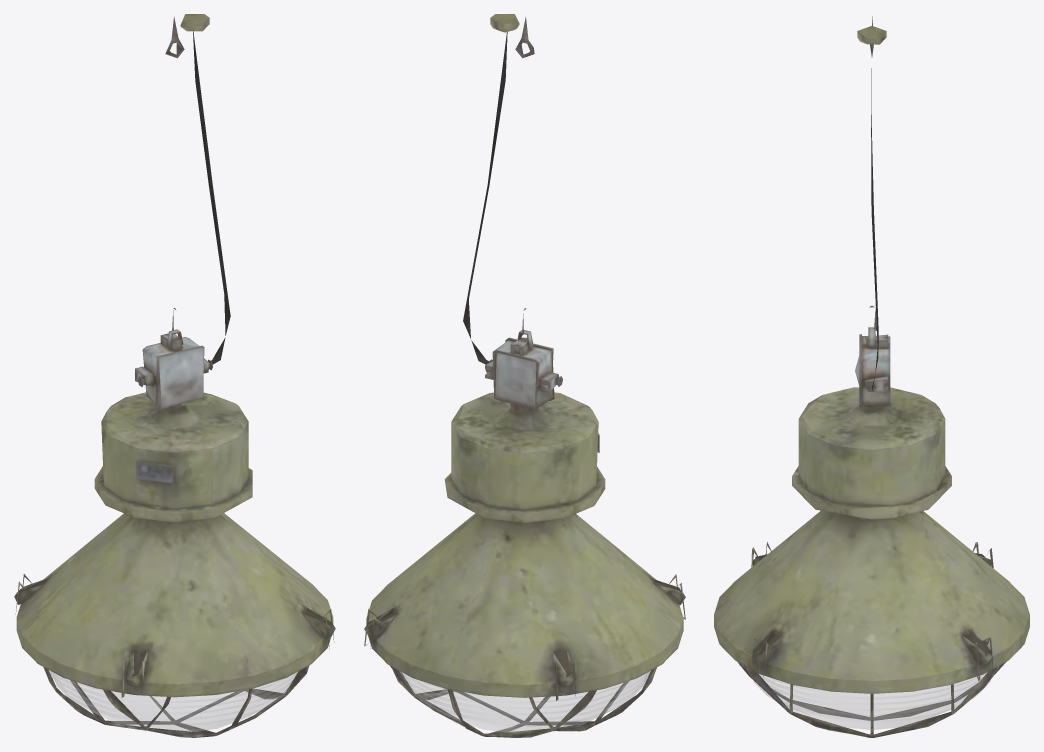
File: lamp.glb
3 views of the same model, side by side, from view 1: azimuth 30°, elevation 25°; view 2: azimuth 150°, elevation 25°; view 3: azimuth 270°, elevation 25° (orthographic).
Visible parts, largest first — view 1: hanging_industrial_lamp; view 2: hanging_industrial_lamp; view 3: hanging_industrial_lamp.
Part boxes in pixels (x1=…): hanging_industrial_lamp: x1=14, y1=14, x2=335, y2=737; hanging_industrial_lamp: x1=364, y1=14, x2=685, y2=737; hanging_industrial_lamp: x1=714, y1=16, x2=1029, y2=737.
Bounding box in the file's own units: 0.5497 × 1.36 × 0.5497.
Materials: 2 (1 with a texture image).
